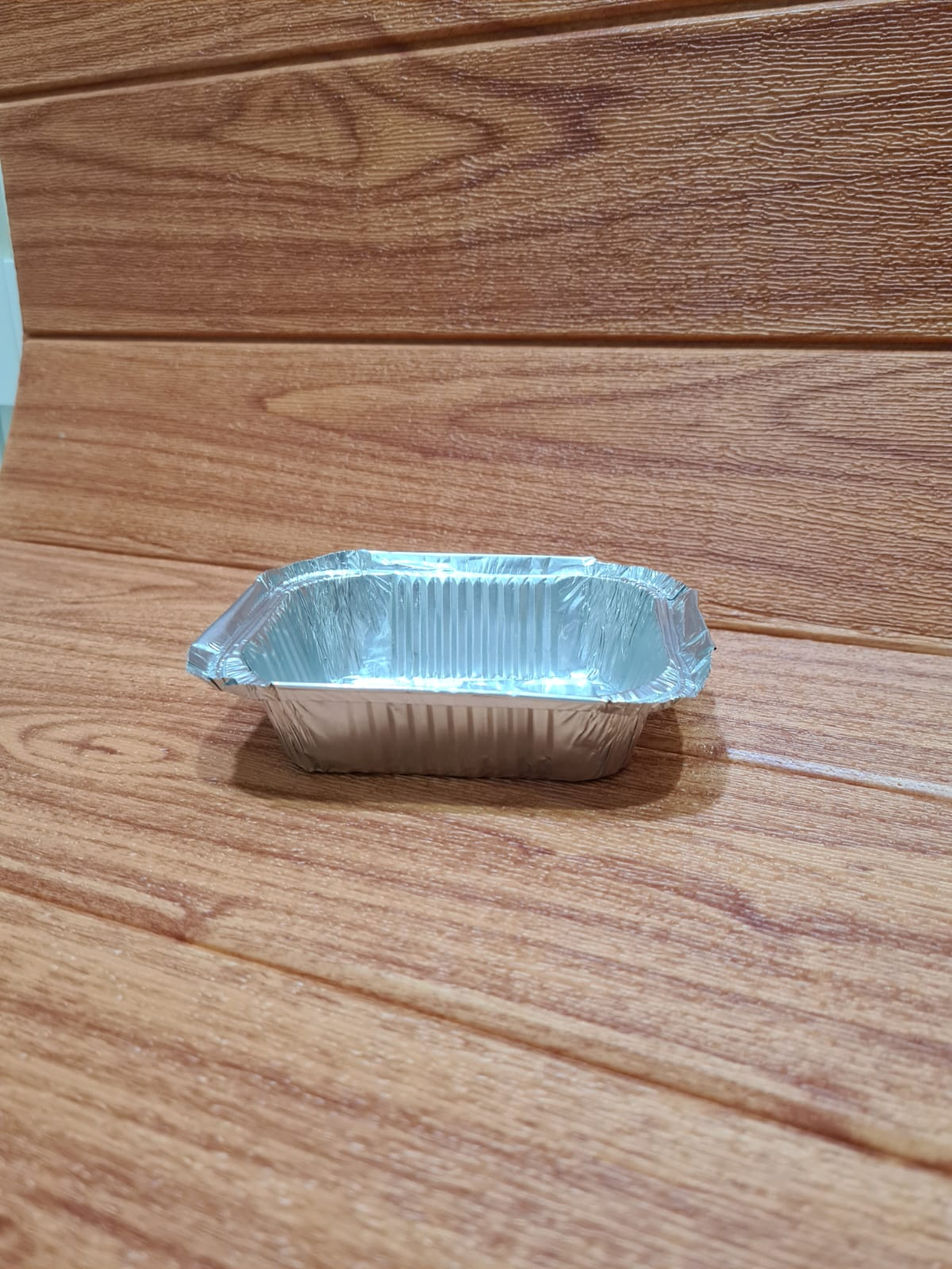Metal: (186, 545, 720, 777)
